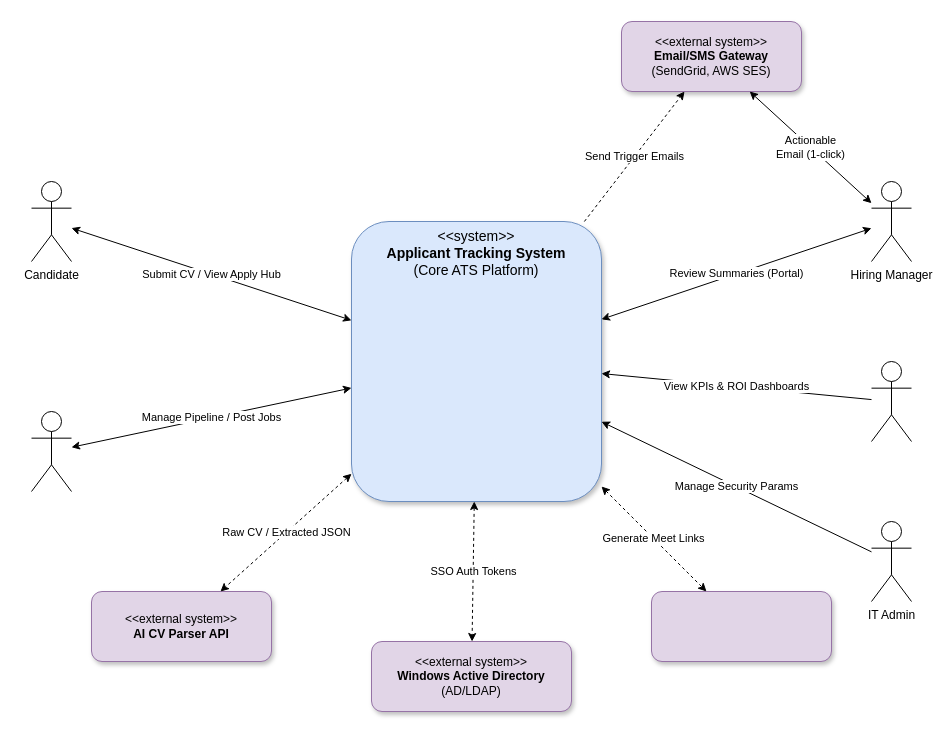
The diagram is 950 pixels wide and 736 high, and some of its shapes have lost their labels. Each missing label, with the centre of its shape:
"<<external system>> Google Workspace (Meet API)" belongs at (x=742, y=627).
"HR Director" belongs at (x=891, y=401).
"HR Recruiter" belongs at (x=51, y=451).
